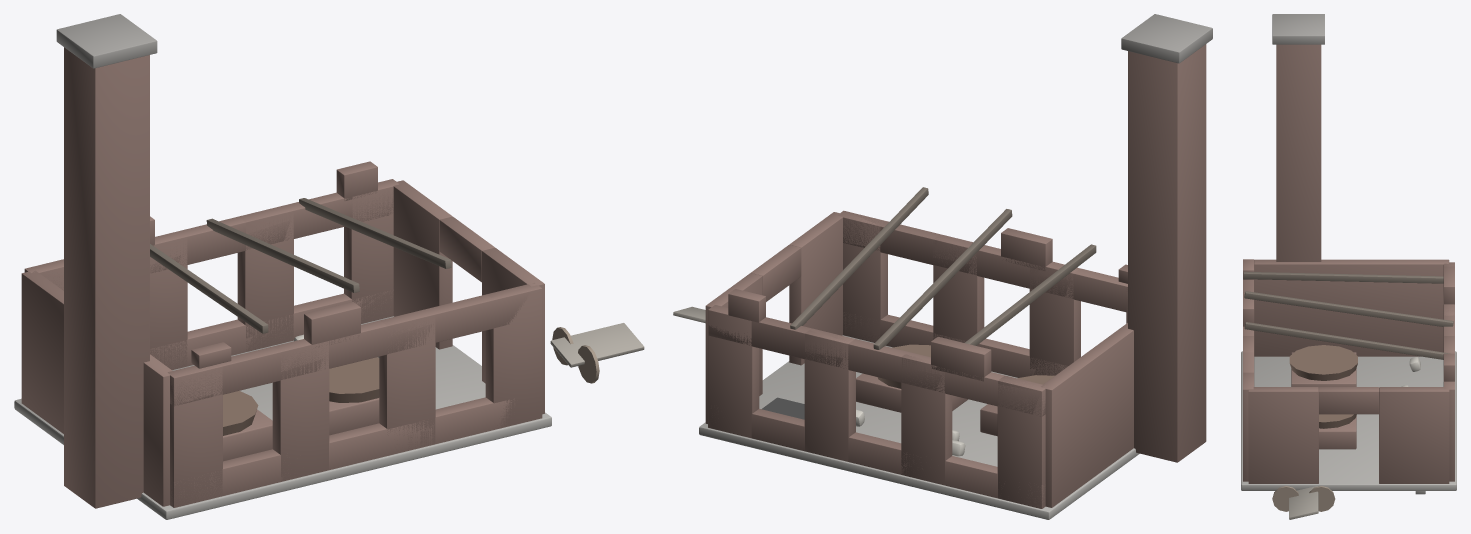
The model's file is salt_works.gltf.
3 views of the same model, side by side, from view 1: azimuth 30°, elevation 25°; view 2: azimuth 150°, elevation 25°; view 3: azimuth 270°, elevation 25° (orthographic). The views are drawn at different scales.
Visible parts, largest first — view 1: Body; view 2: Body; view 3: Body.
Part boxes in pixels (box(x1,y1,x2,y2)): Body: box(14, 14, 644, 519); Body: box(673, 14, 1212, 519); Body: box(1241, 14, 1456, 519).
Bounding box in the file's own units: 18.35 × 15 × 8.6.
